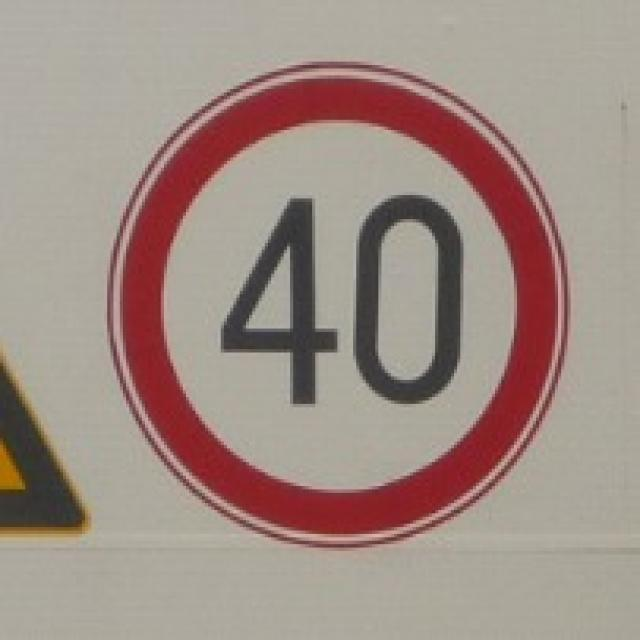Speed Limit -40-: (218, 186, 468, 413)
